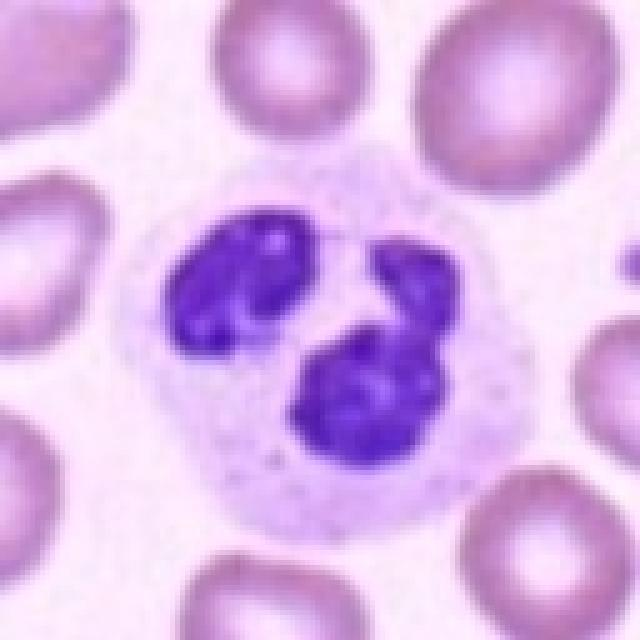neutro: (177, 101, 578, 535)
